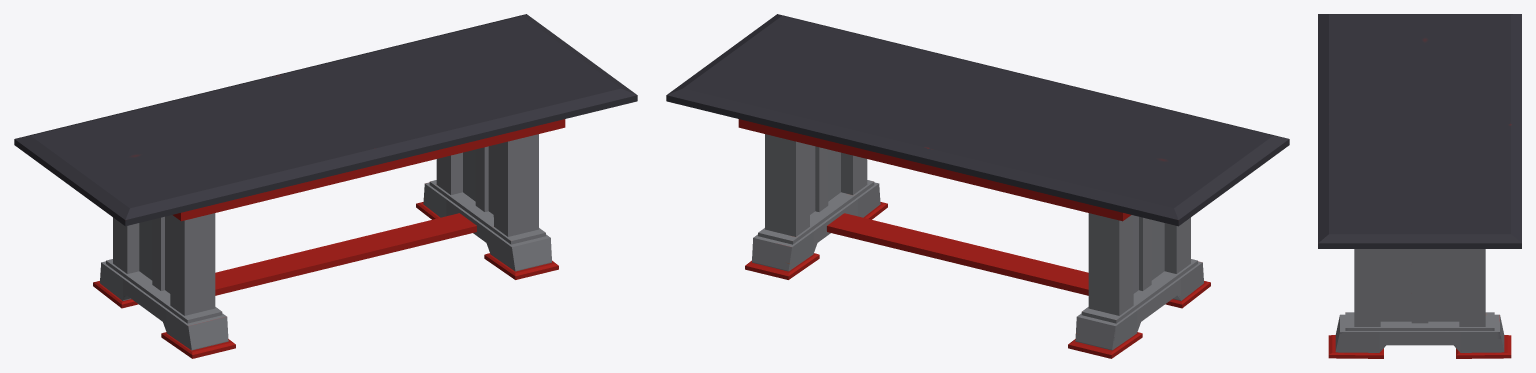
Rendered from Square Table.fbx.
3 renders of one model, left to right at view 1: azimuth 30°, elevation 25°; view 2: azimuth 150°, elevation 25°; view 3: azimuth 270°, elevation 25°, orthographic. The views are drawn at different scales.
Visible parts, largest first — view 1: Table; view 2: Table; view 3: Table.
Part boxes in pixels (x1=…): Table: x1=14, y1=14, x2=637, y2=358; Table: x1=666, y1=14, x2=1289, y2=358; Table: x1=1318, y1=14, x2=1521, y2=358.
Bounding box in the file's own units: 917 × 284 × 344.
